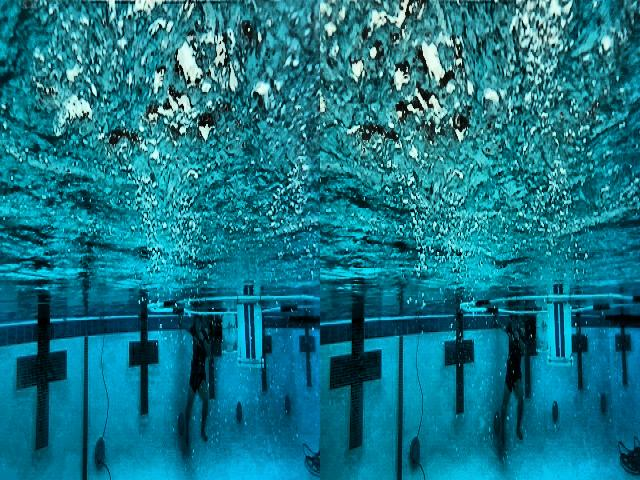octagon_top: (459, 293, 640, 368), (147, 294, 320, 370)
